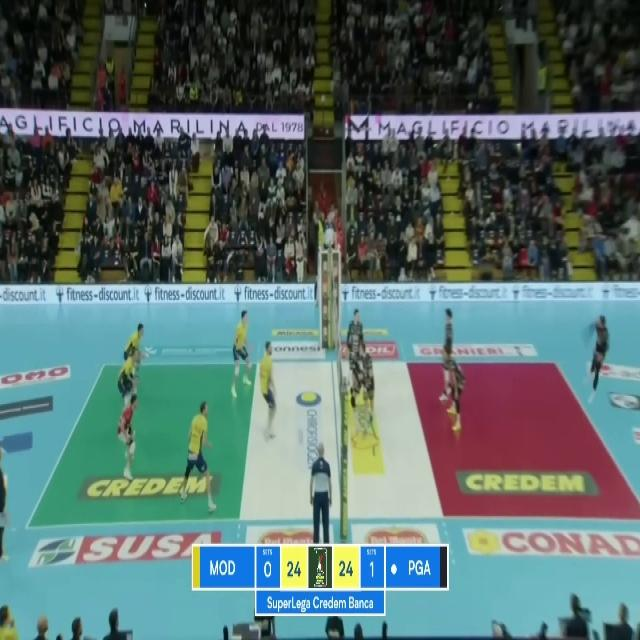volleyball court: (29, 358, 638, 518)
